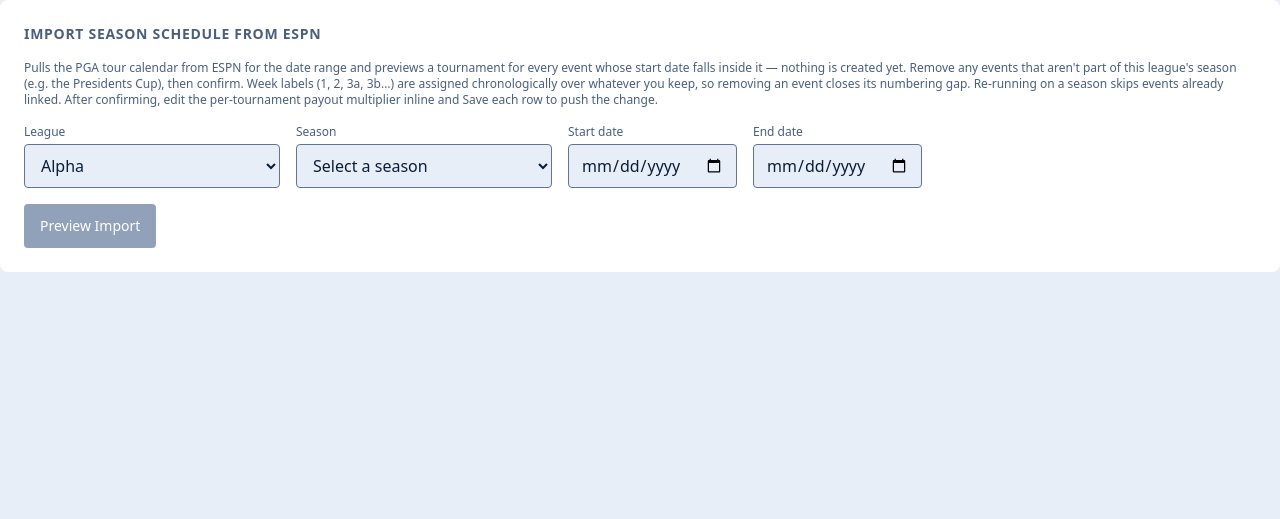
Test: UploadScheduleSection › announces a multiplier that is not above zero as an error on its input
Select "2026 Spring" in the dropdown labelled "Season": (424, 166) [296, 144, 552, 188]
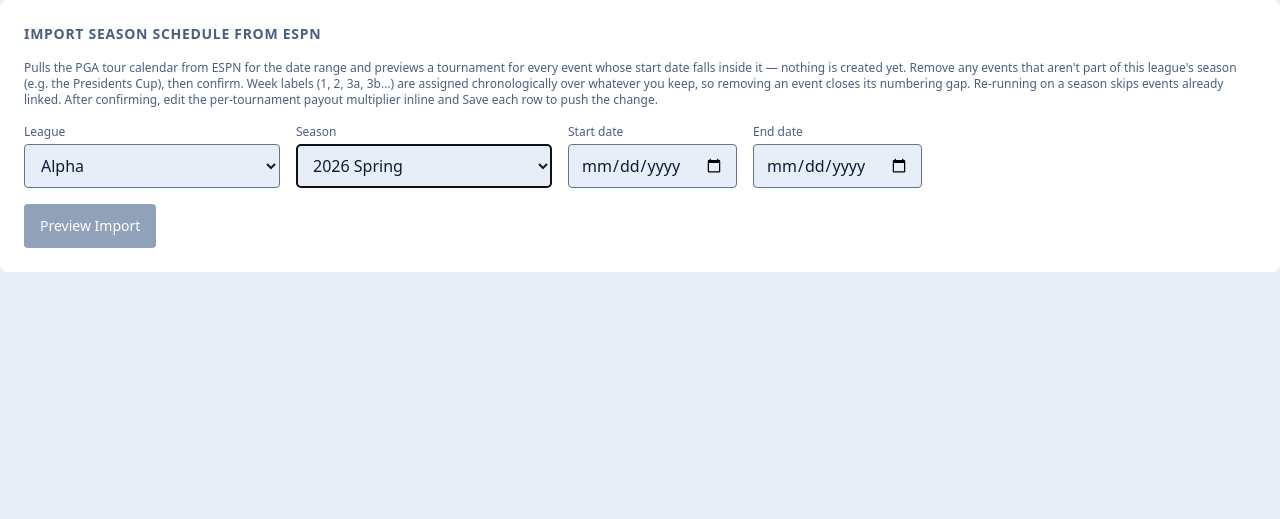
In the date field labelled "Start date": (652, 166) [568, 144, 737, 188], type "2026-01-01"
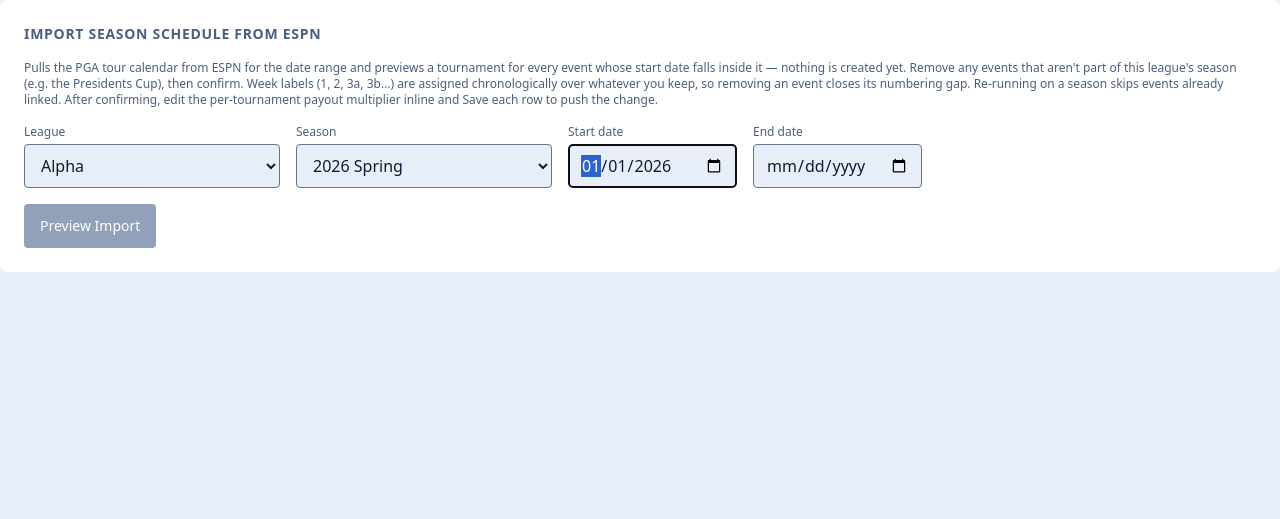
In the date field labelled "End date": (838, 166) [753, 144, 922, 188], type "2026-12-31"
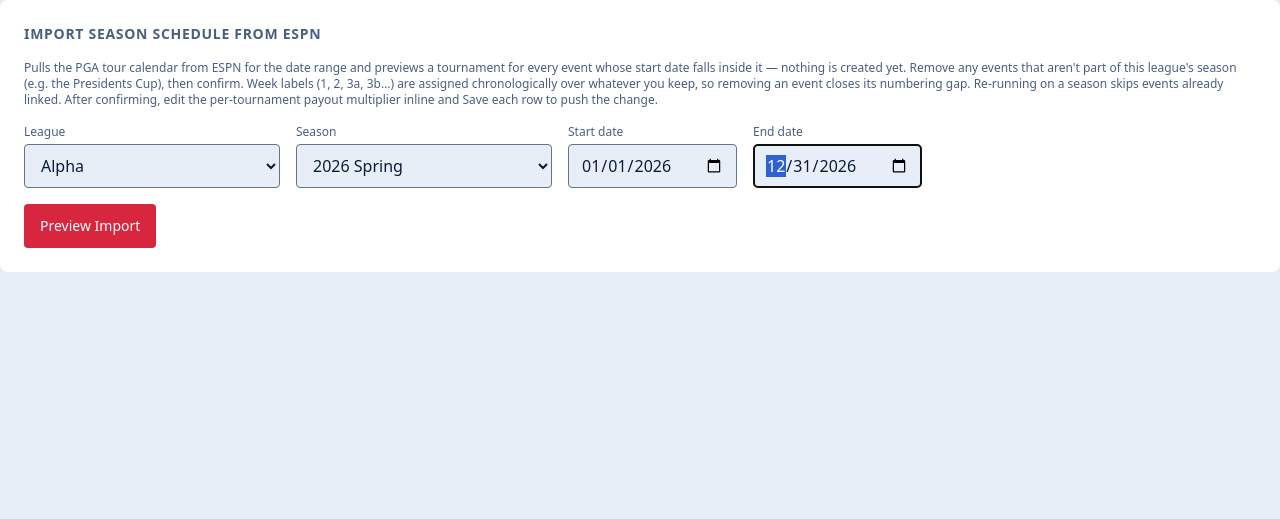
Click the button "Preview Import": click(90, 226) [24, 204, 156, 248]
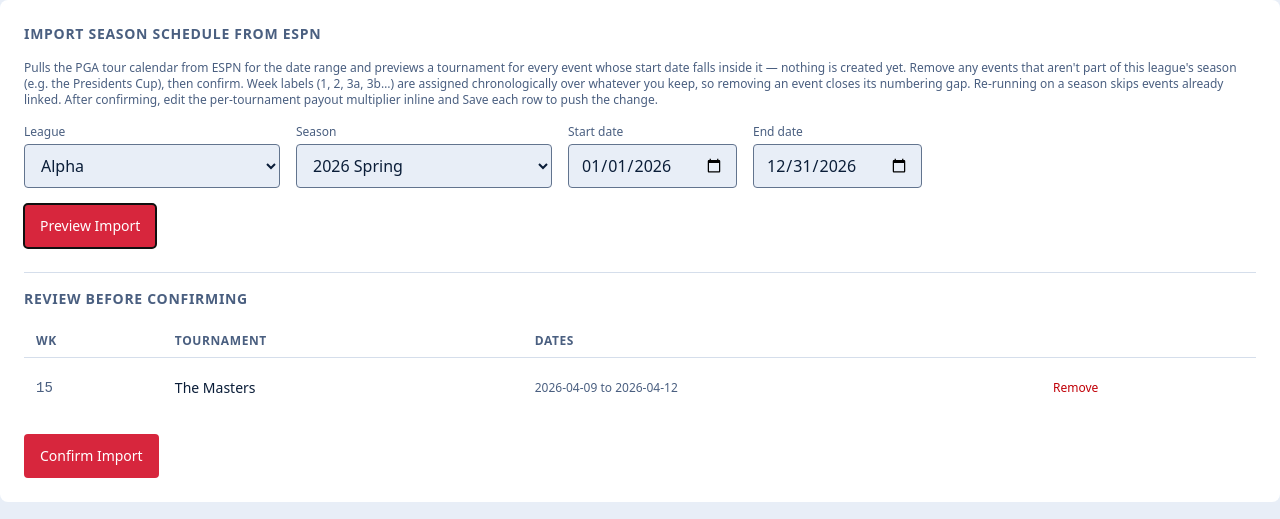
Click the button "Confirm Import": click(91, 456) [24, 434, 159, 478]
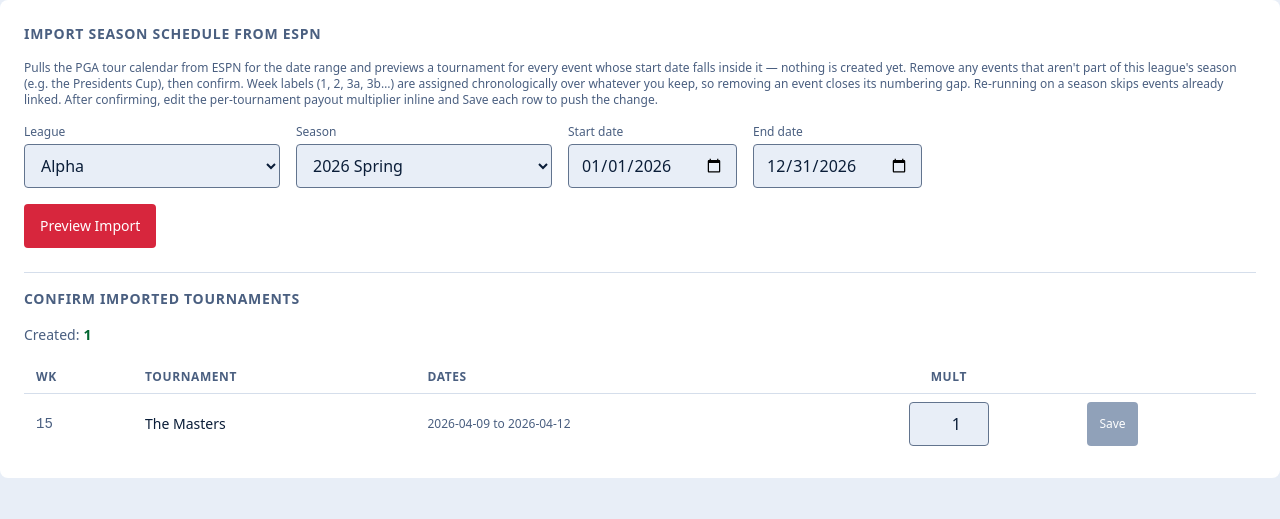
Replace the text in the number field named "Payout multiplier for The Masters" with "0": (949, 424) [909, 402, 989, 446]
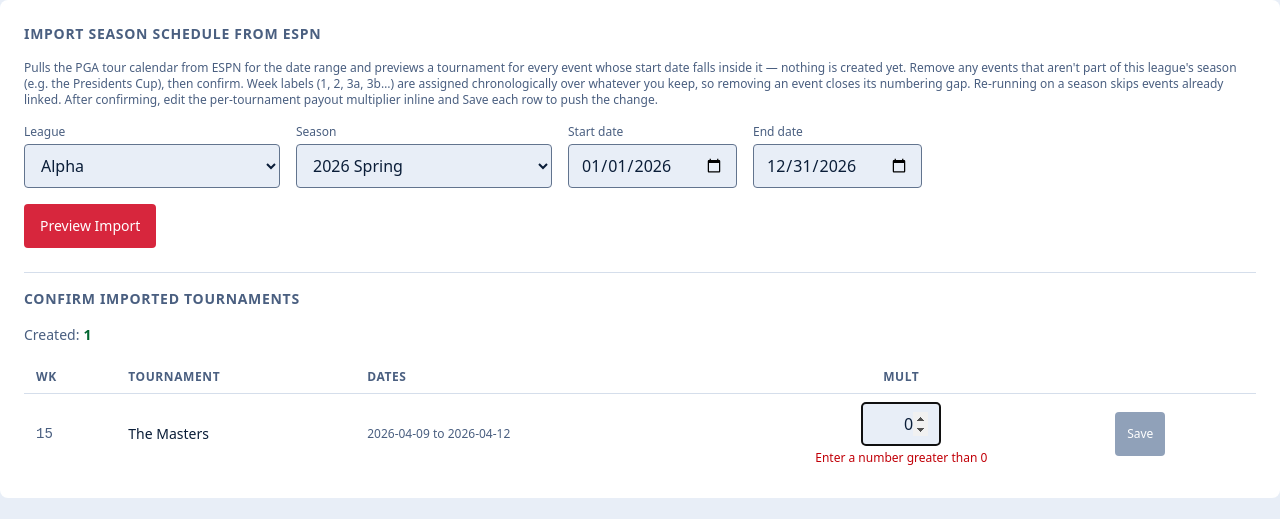
Expected: the button "Save" is disabled, [1115, 412, 1165, 456]
Expected: the message reads "Enter a number greater than 0", [815, 449, 987, 466]
